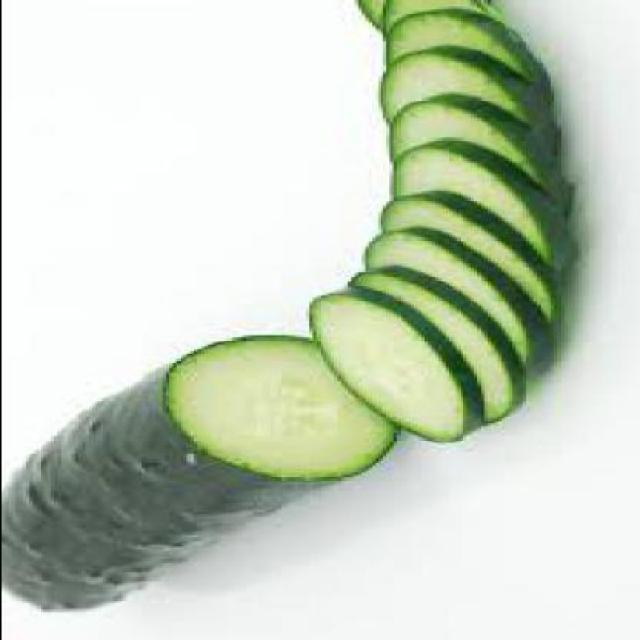BIODEGRADABLE: (2, 337, 396, 615), (356, 230, 553, 378), (343, 268, 525, 428), (301, 290, 485, 448), (374, 196, 563, 322), (385, 142, 563, 262), (385, 96, 560, 189), (374, 12, 538, 102), (375, 51, 559, 126), (375, 3, 507, 37), (350, 2, 381, 33)
